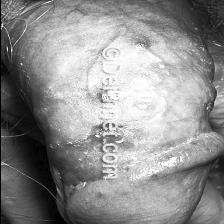Toxin: (93, 119, 125, 142), (130, 38, 148, 52)
